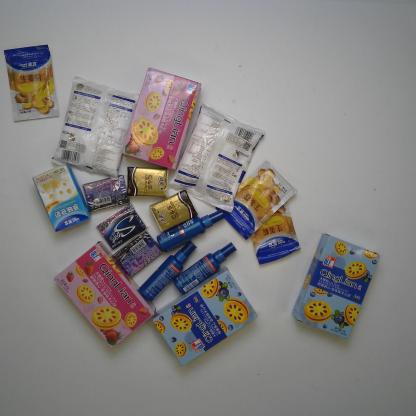Dessert: (51, 238, 158, 353), (149, 264, 261, 367), (287, 228, 385, 343), (118, 65, 203, 170)
Gum: (112, 227, 165, 280), (95, 202, 148, 252), (80, 173, 132, 216)
Milk: (30, 162, 93, 237)
Personal Hygiene: (137, 238, 201, 304), (171, 240, 241, 297), (153, 206, 230, 254)
Seasoner: (165, 100, 268, 215), (46, 73, 142, 184), (213, 155, 300, 242), (2, 42, 60, 123), (248, 198, 304, 268)
Tissue: (148, 186, 200, 234), (124, 163, 171, 200)
